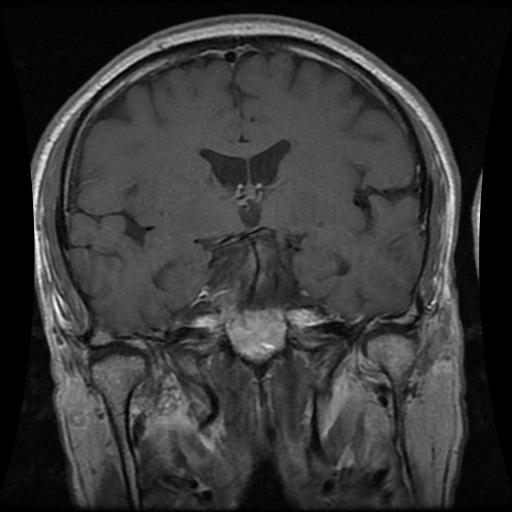Pituirity_tumour: (210, 286, 287, 364)
